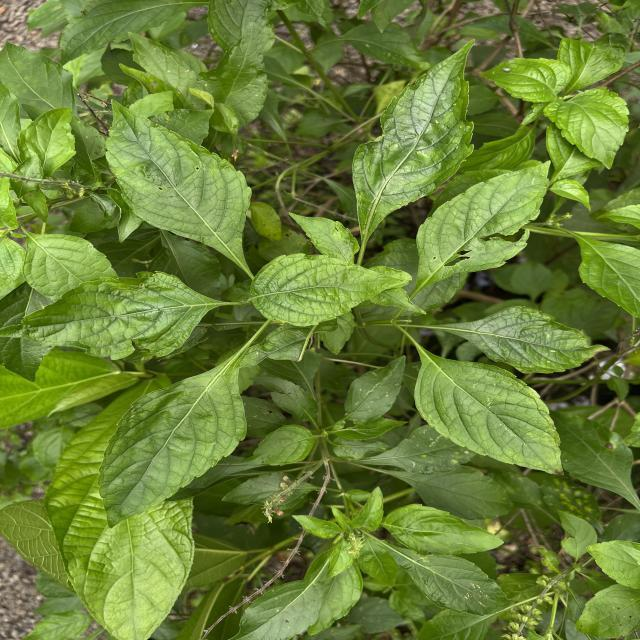Ocimum gratissimum: (96, 339, 250, 531), (100, 97, 256, 286), (348, 37, 479, 262), (411, 336, 566, 480), (1, 268, 226, 362), (408, 157, 552, 302), (368, 532, 524, 618), (428, 304, 613, 376), (247, 251, 408, 329), (228, 549, 340, 640), (379, 501, 507, 559), (567, 227, 640, 322), (339, 354, 407, 426)
